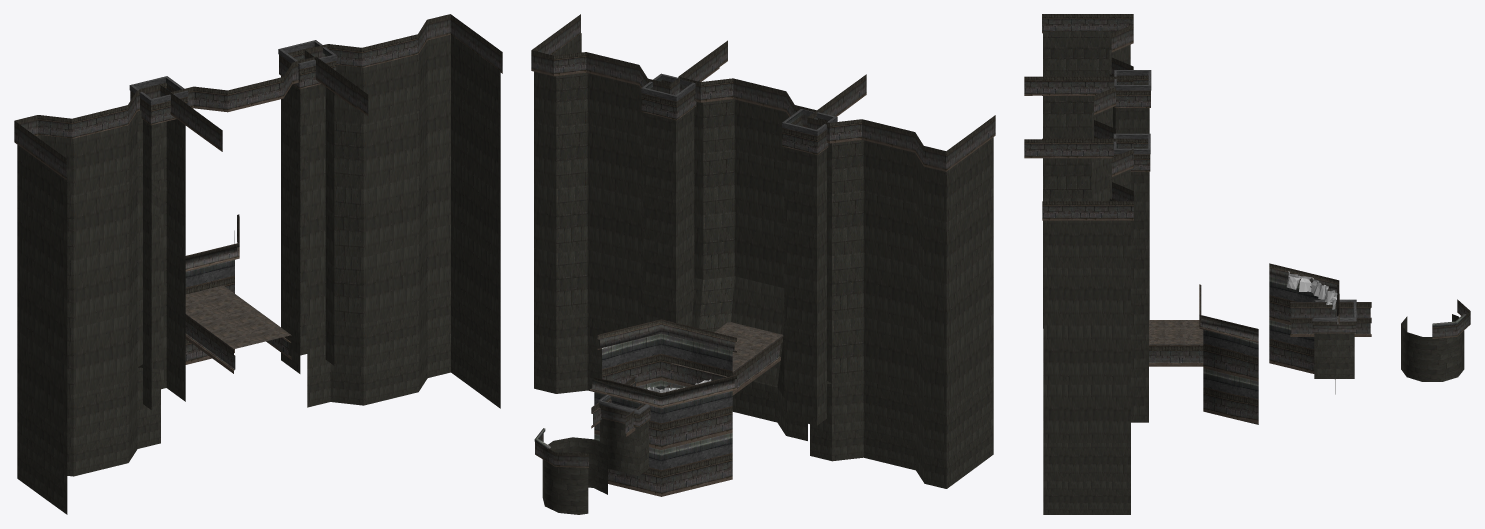
The model's file is first battle_01_stone_02.FBX.
3 renders of one model, left to right at view 1: azimuth 30°, elevation 25°; view 2: azimuth 150°, elevation 25°; view 3: azimuth 270°, elevation 25°, orthographic. The views are drawn at different scales.
Visible parts, largest first — view 1: S2; view 2: S2, first_battle_01_stone; view 3: S2, first_battle_01_stone.
Part boxes in pixels (<box>): S2: <box>14,14,502,514</box>; S2: <box>531,14,995,514</box>; first_battle_01_stone: <box>591,375,669,436</box>; S2: <box>1024,14,1470,514</box>; first_battle_01_stone: <box>1290,302,1371,336</box>.
Size of the model in its own units: 166 by 130 by 167.
